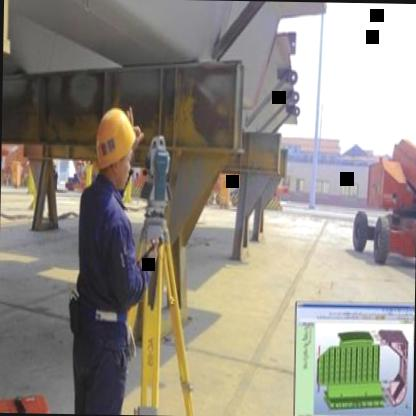helmet: (90, 102, 139, 190)
